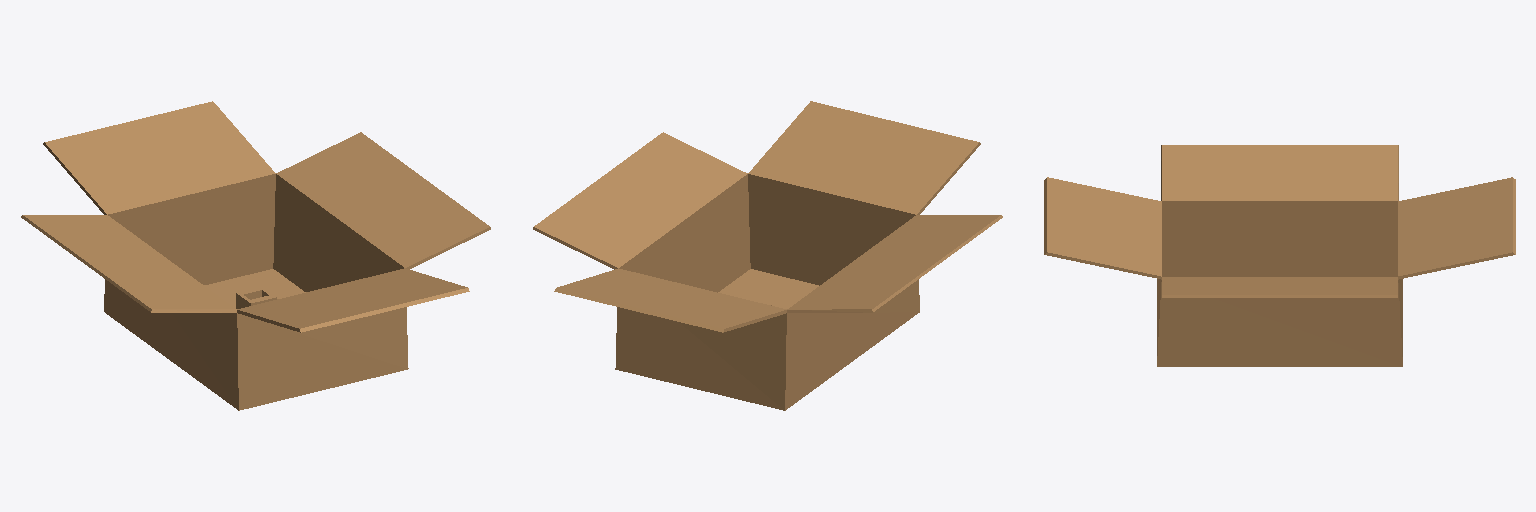
The robot description file, URDF, robot "box_insert":
<?xml version="1.0"?>
<robot name="box_insert">
    <link name="box">
        <visual>
            <geometry>
                <!-- <mesh filename="../mesh/TVB_mesh/box1_high.obj" scale="1.5 1.5 1.5"/>       -->
                <!-- <mesh filename="../mesh/TVB_mesh/box1_update2.obj" scale="1.2 1.8 1.2"/> -->
                <mesh filename="../mesh/TVB_mesh/box_socket_big_update7.obj"/>                               
            </geometry>
            <material name="CardboardYellow">
                <color rgba="0.76 0.6 0.42 1"/>
            </material>
        </visual>
        <collision>
            <geometry>
                <!-- <mesh filename="../mesh/TVB_mesh/box1_update2.obj" scale="1.2 1.8 1.2"/>                 -->
                <mesh filename="../mesh/TVB_mesh/box_socket_big_update7.obj"/> 
            </geometry>
            <sdf resolution="128"/>
        </collision>
    </link>
</robot>

--- What the picture shows (computed from the rendered views, not written in the file) ---
3 views of the same robot in one strip: view 1: azimuth 30°, elevation 25°; view 2: azimuth 150°, elevation 25°; view 3: azimuth 270°, elevation 25° (orthographic).
Robot: box_insert — 1 links, 0 joints (none); root link box; default pose: all joints at 0.
Visible links, largest first — view 1: box; view 2: box; view 3: box.
Boxes of the visible links, <box> form: box: <box>21,101,490,410</box>; box: <box>533,101,1002,410</box>; box: <box>1044,145,1515,366</box>.
Size in the robot's own frame: 0.6568 by 0.861 by 0.2322 metres.
1 mesh visuals loaded from 1 distinct referenced files (1 OBJ).
